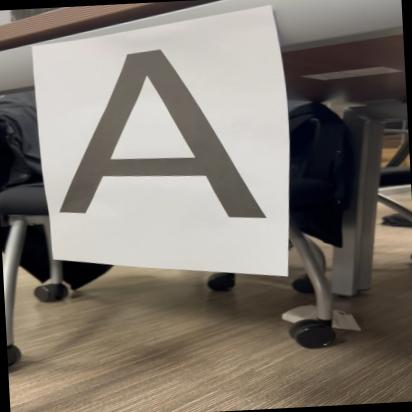seat: (52, 42, 278, 229)
